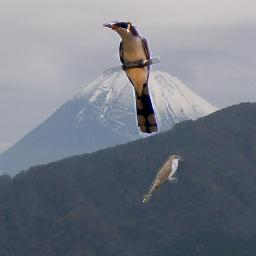Cuckoo: (103, 21, 160, 136), (143, 155, 184, 202)
